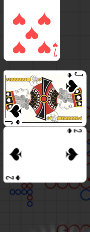2S: (66, 127, 84, 134)
7H: (52, 41, 59, 57)
